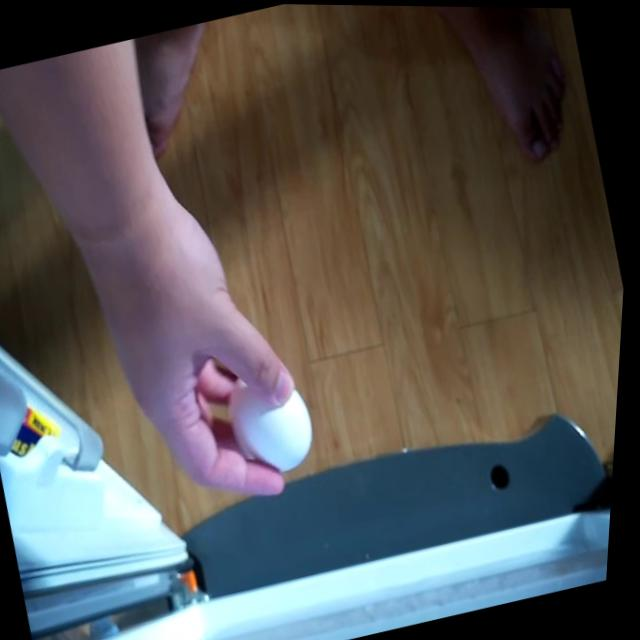egg: (220, 359, 327, 484)
